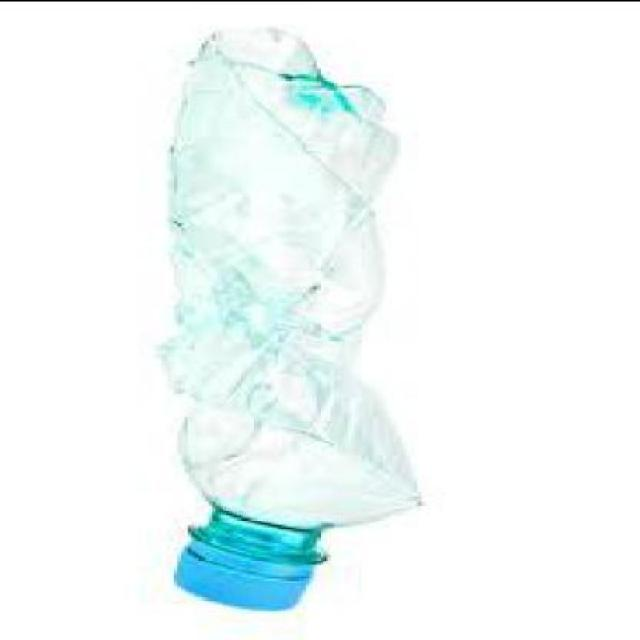PLASTIC: (170, 26, 432, 612), (174, 532, 331, 614)
